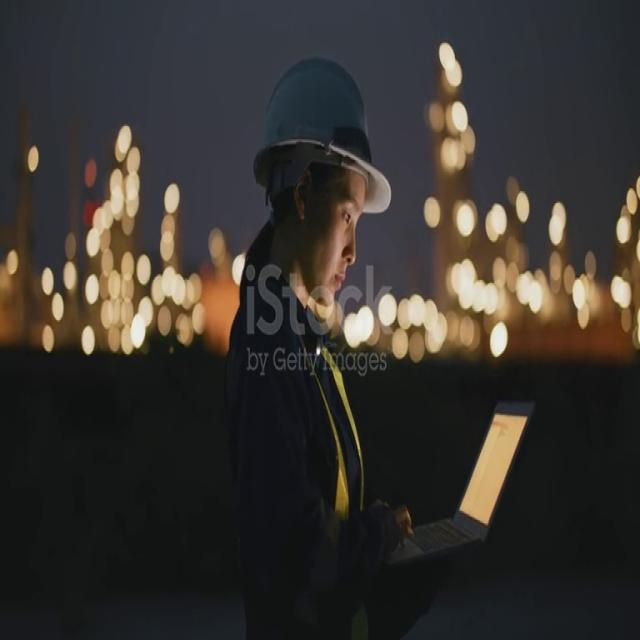capacete: (234, 42, 400, 233)
